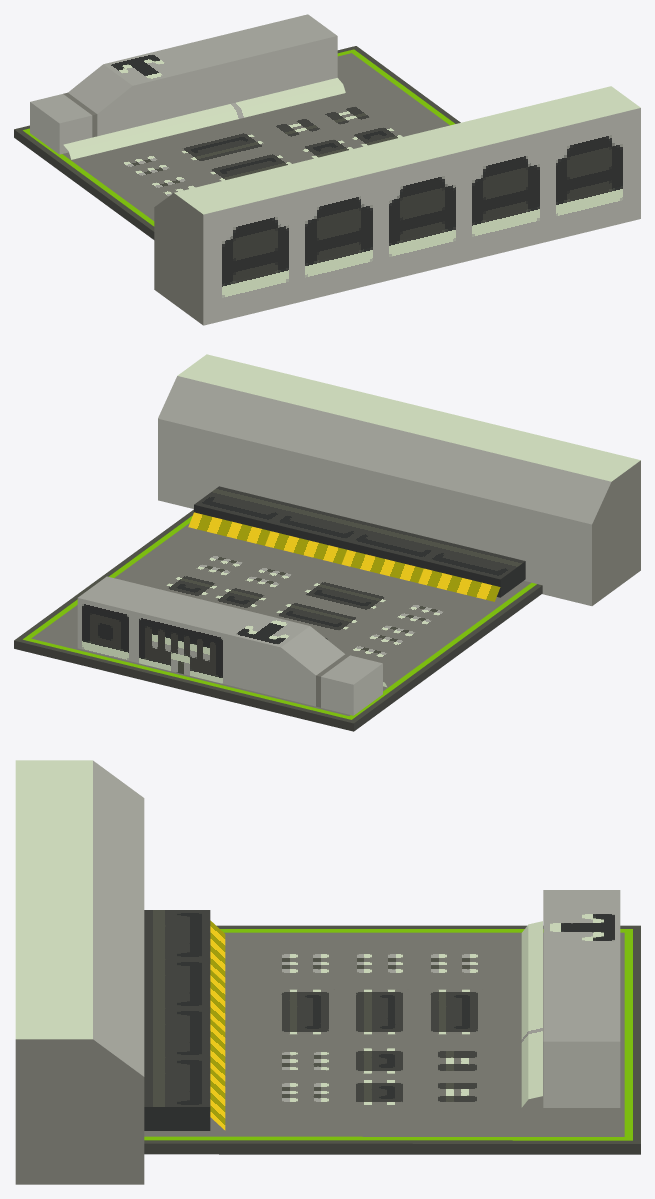
The model's file is network-interface.glb.
3 views of the same model, one above another, from view 1: azimuth 30°, elevation 25°; view 2: azimuth 150°, elevation 25°; view 3: azimuth 270°, elevation 25° (orthographic). The views are drawn at different scales.
Visible parts, largest first — view 1: Plane.034, Plane.039, Plane.036, Plane.037, Plane.035; view 2: Plane.034, Plane.038, Plane.039, Plane.037, Plane.040, Plane.035; view 3: Plane.034, Plane.038, Plane.039, Plane.037, Plane.035, Plane.036, Plane.040.
Part boxes in pixels (x1,y1,x2,y2): Plane.034: (14, 14, 640, 325); Plane.039: (176, 130, 291, 180); Plane.036: (266, 101, 376, 139); Plane.037: (116, 153, 200, 198); Plane.035: (297, 124, 402, 158); Plane.034: (14, 354, 640, 731); Plane.038: (188, 486, 525, 601); Plane.039: (271, 579, 391, 641); Plane.037: (343, 601, 451, 662); Plane.040: (189, 552, 299, 590); Plane.035: (161, 573, 271, 610); Plane.034: (15, 760, 640, 1184); Plane.038: (144, 910, 225, 1130); Plane.039: (275, 989, 483, 1034); Plane.037: (275, 951, 483, 975); Plane.035: (349, 1048, 409, 1104); Plane.036: (430, 1048, 490, 1104); Plane.040: (275, 1048, 334, 1104).
Size of the model in its own units: 0.3983 by 0.0967 by 0.3785.
1 material, 1 textured.
